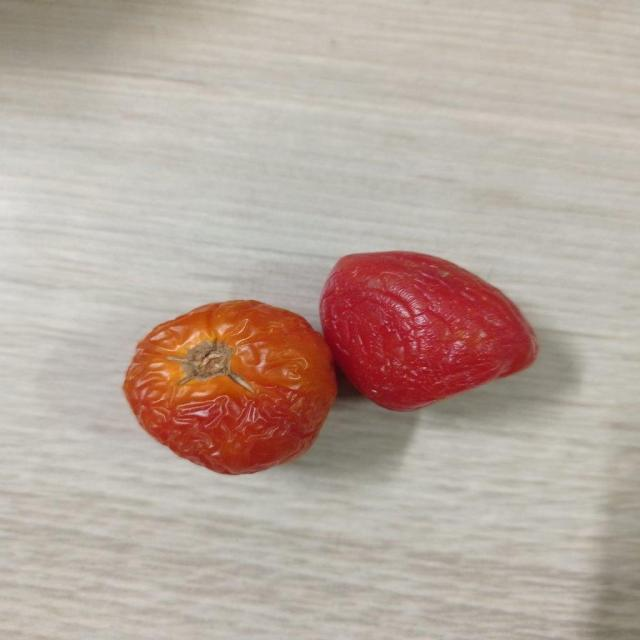overripe: (122, 294, 334, 475), (325, 248, 539, 414)
